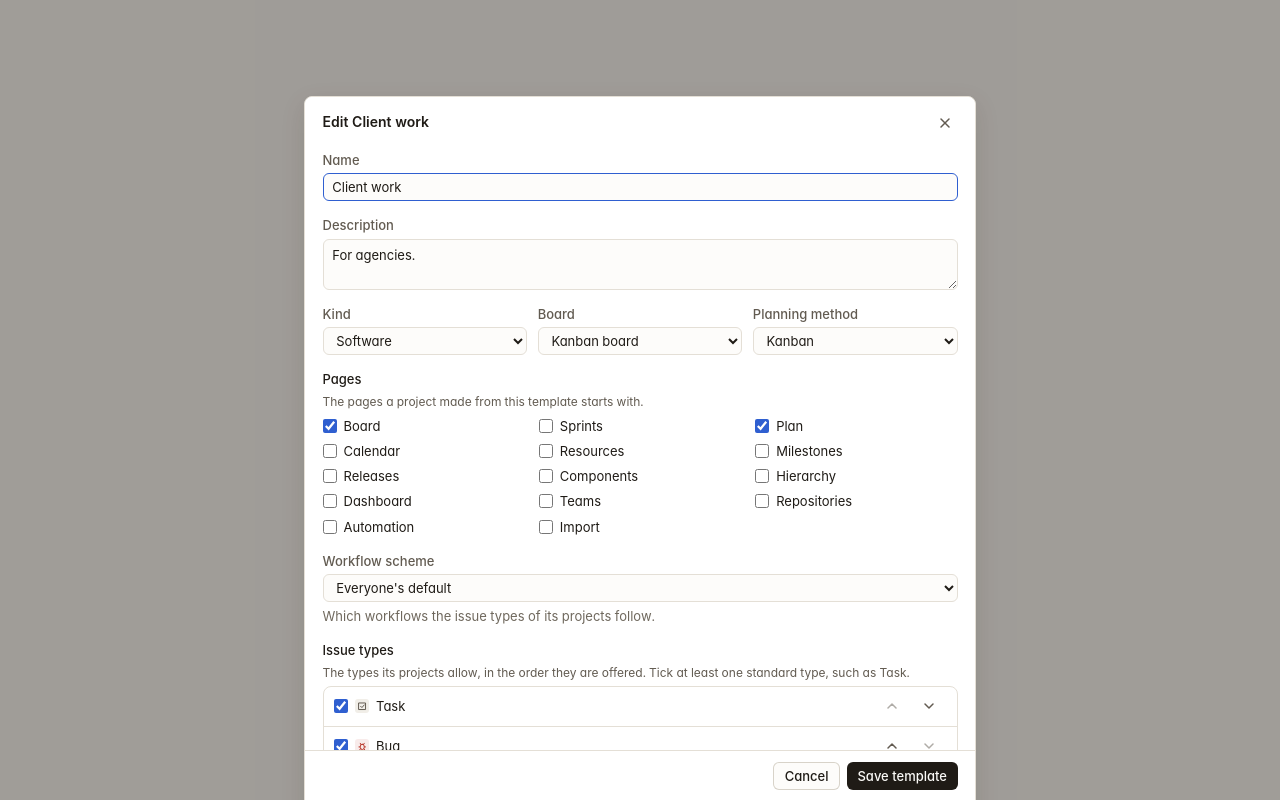
Test: the template editor › will not save without a standard type, and says why
Click the checkbox named "Allow Task" at (341, 706), box top-left (334, 699), bottom-right (348, 713)
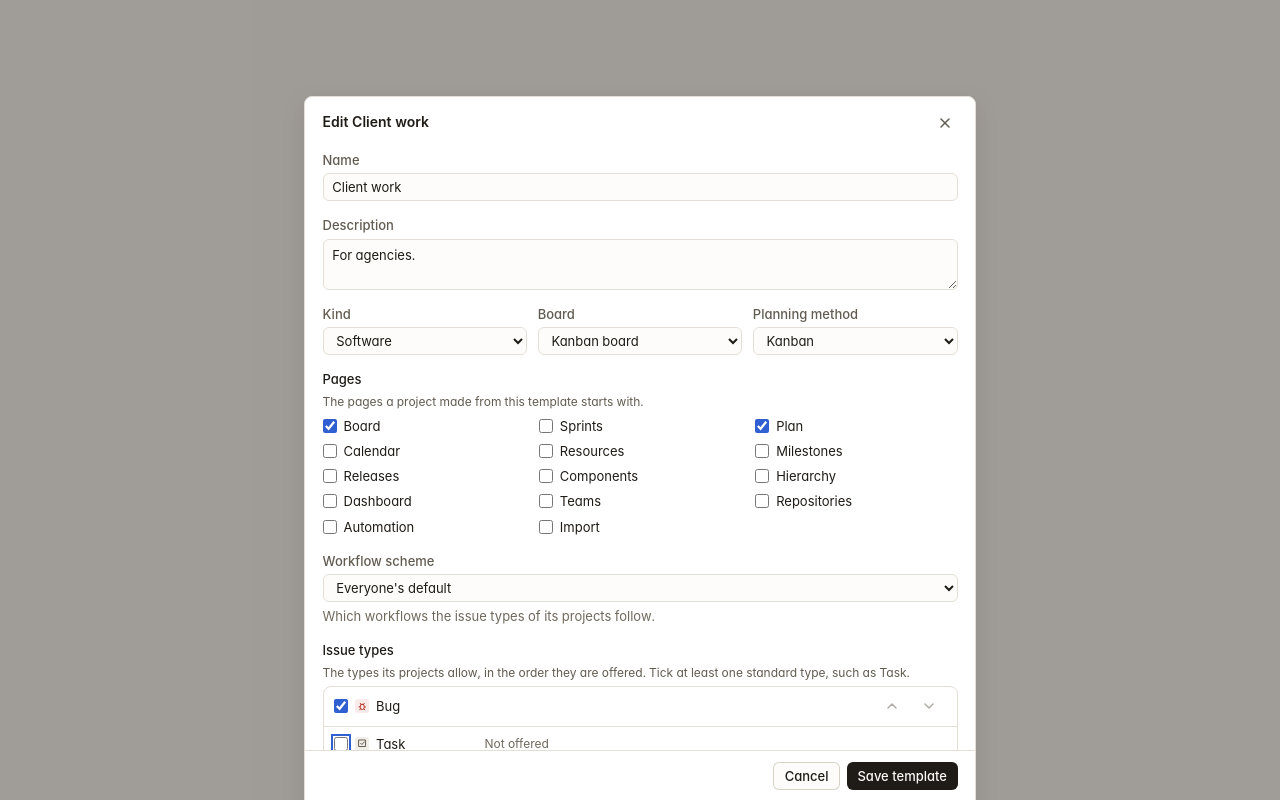
Click the checkbox named "Allow Bug" at (341, 706), box top-left (334, 699), bottom-right (348, 713)
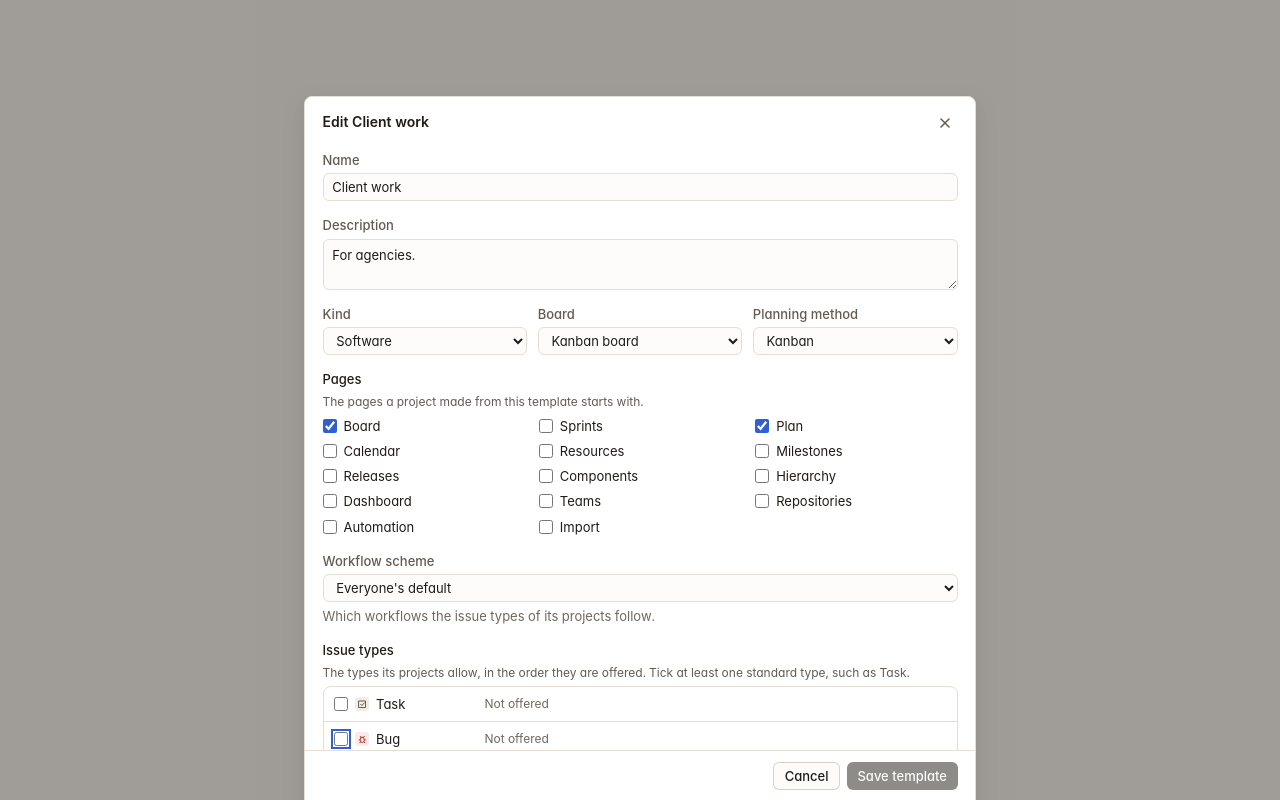
Expected: the button "Save template" is disabled, top-left (847, 762), bottom-right (958, 790)
